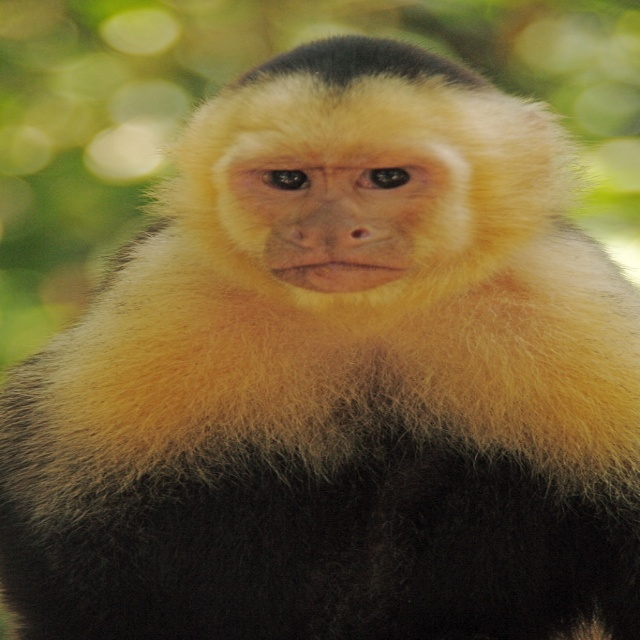Monkey: (0, 35, 640, 640)
